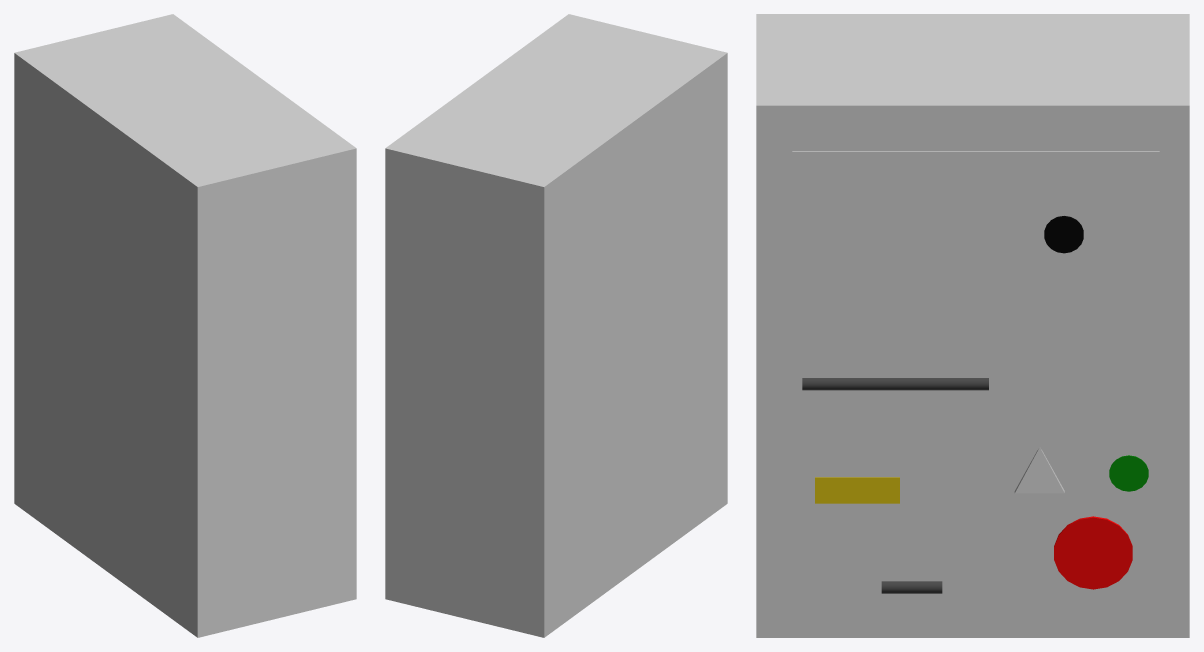
The model's file is bimo_cuerpo.fbx.
3 views of the same model, side by side, from view 1: azimuth 30°, elevation 25°; view 2: azimuth 150°, elevation 25°; view 3: azimuth 270°, elevation 25° (orthographic). The views are drawn at different scales.
Parts seen in each view (by area): view 1: Box002; view 2: Box002; view 3: Box002, Box003, Cylinder002, Cylinder004, Box005, Pyramid001, OjoDerecho, Cylinder003, Cylinder006.
Boxes of the visible parts, box(x1,y1,x2,y2) form: Box002: box(14, 14, 356, 637); Box002: box(385, 14, 727, 637); Box002: box(756, 14, 1189, 637); Box003: box(792, 151, 1159, 348); Cylinder002: box(1054, 516, 1132, 589); Cylinder004: box(802, 378, 988, 390); Box005: box(815, 477, 899, 503); Pyramid001: box(1014, 447, 1064, 493); OjoDerecho: box(1044, 216, 1083, 253); Cylinder003: box(1109, 455, 1148, 491); Cylinder006: box(881, 581, 942, 593).
Bounding box in the file's own units: 4.08 × 10.81 × 7.98.
